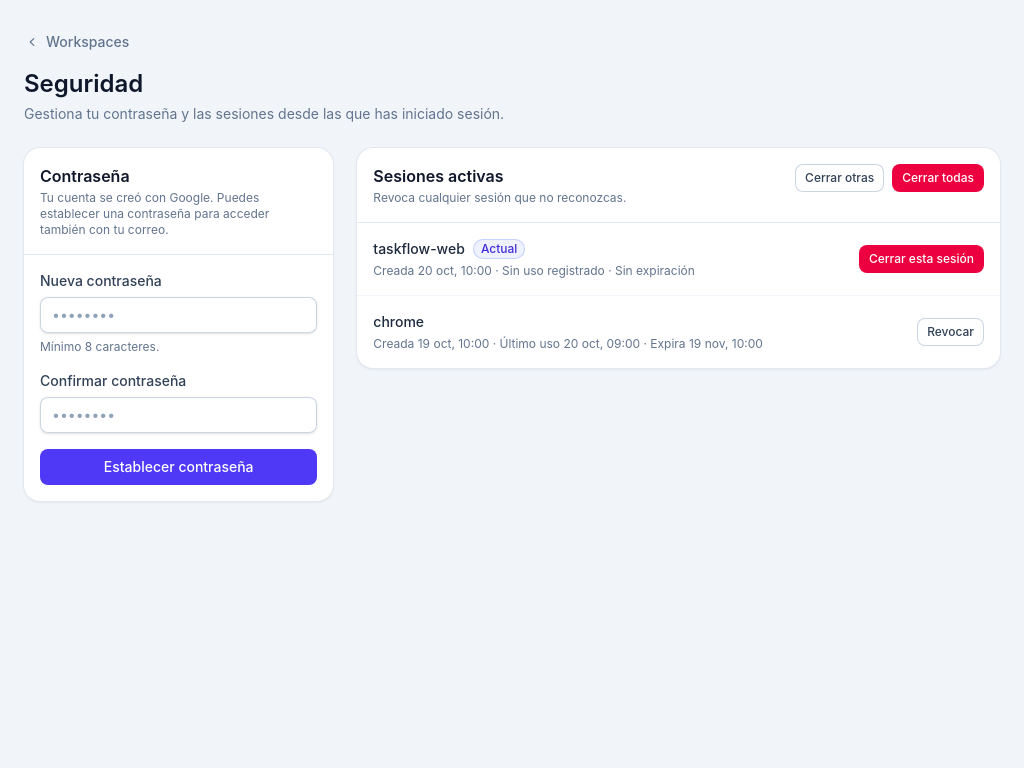
Scenario: SecurityPage › lets a Google-only account set a password without the current one
Type "NewPassword123!" into the password field labelled "Nueva contraseña".
click(179, 315); type("NewPassword123!")  # box [40,297,317,333]
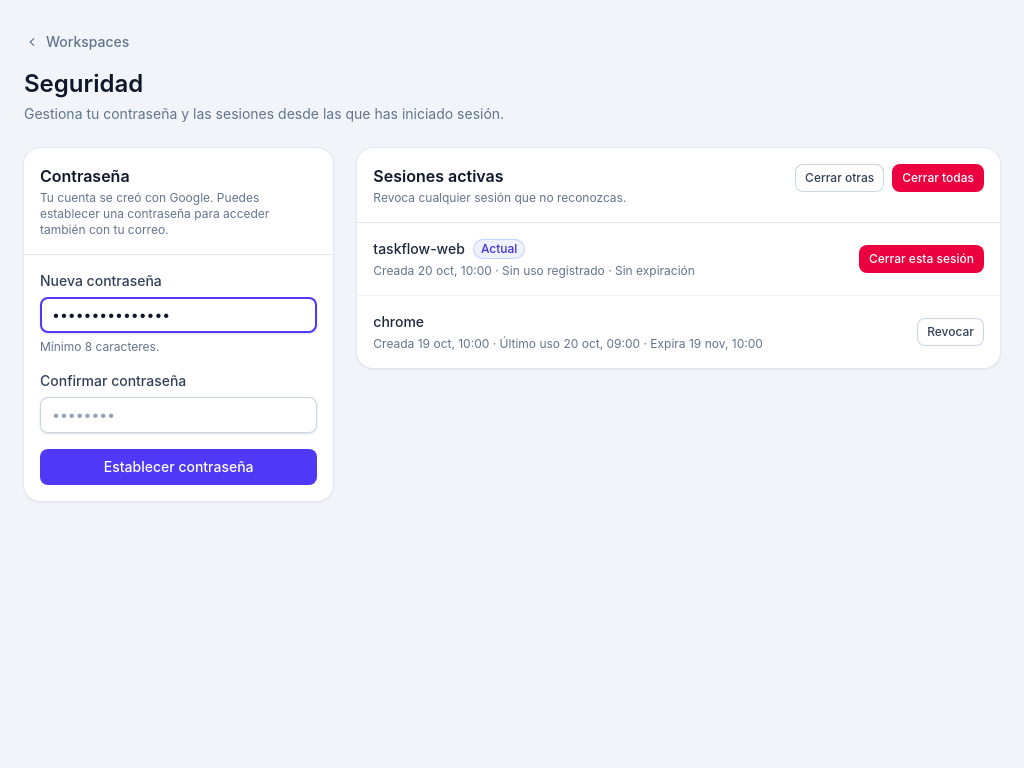
Type "NewPassword123!" into the password field labelled "Confirmar contraseña".
click(179, 415); type("NewPassword123!")  # box [40,397,317,433]
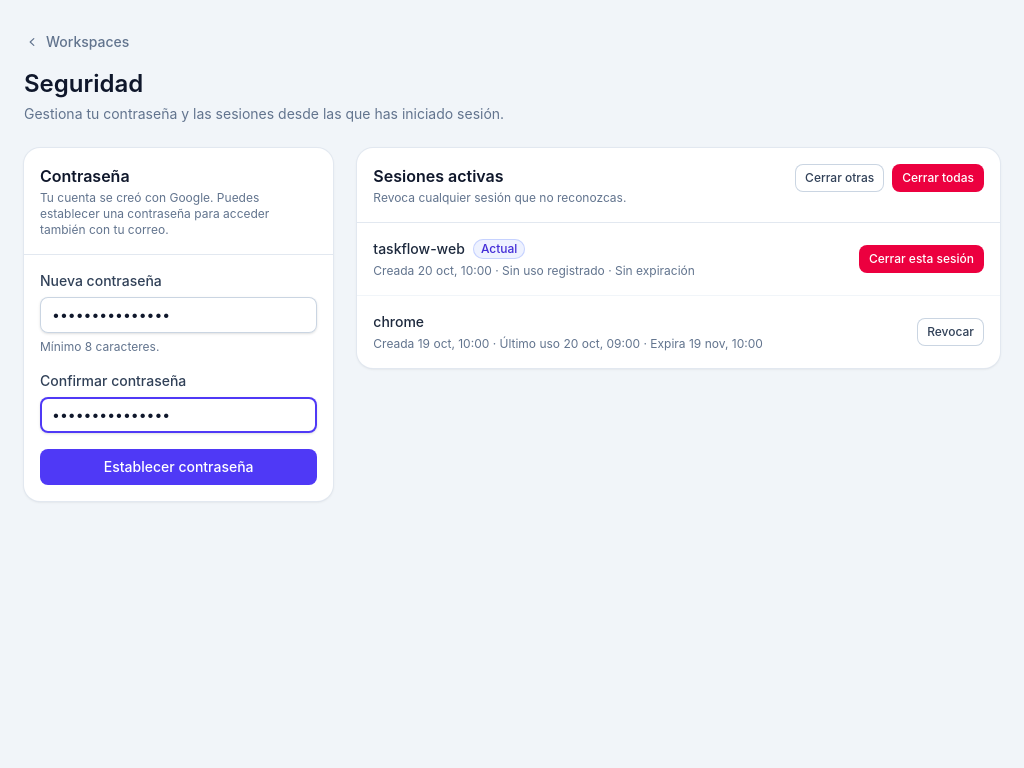
Click the button "Establecer contraseña".
click(179, 467)  # box [40,449,317,485]
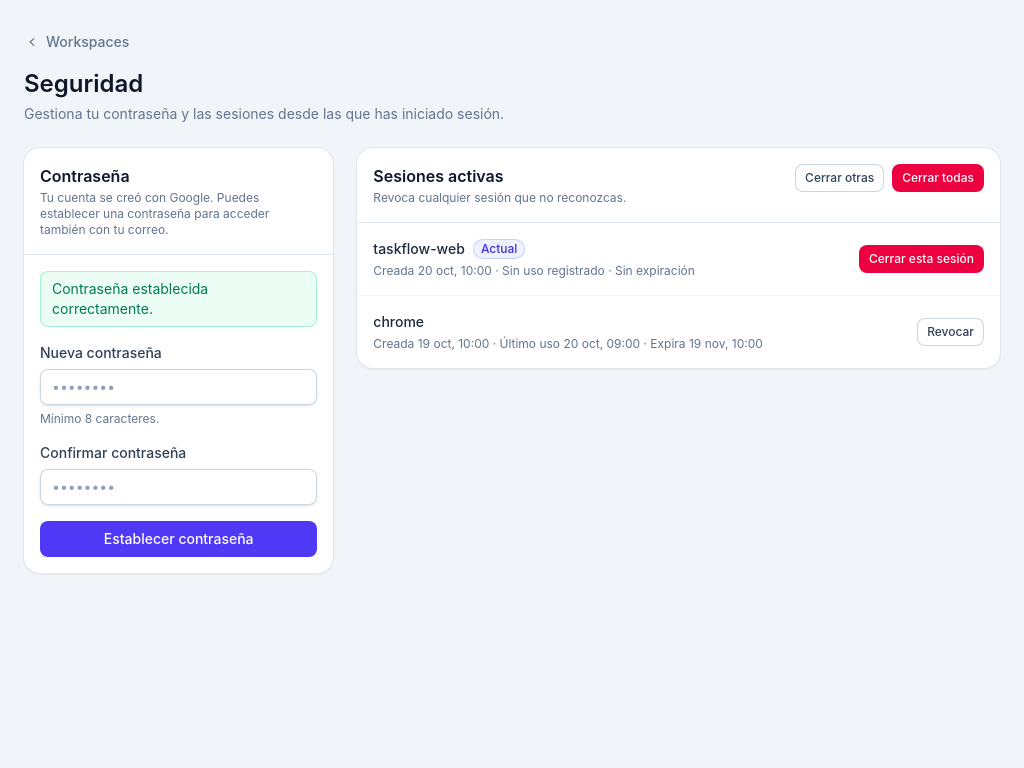
Expected: the text "Contraseña establecida correctamente." is shown, [40,271,317,327]
